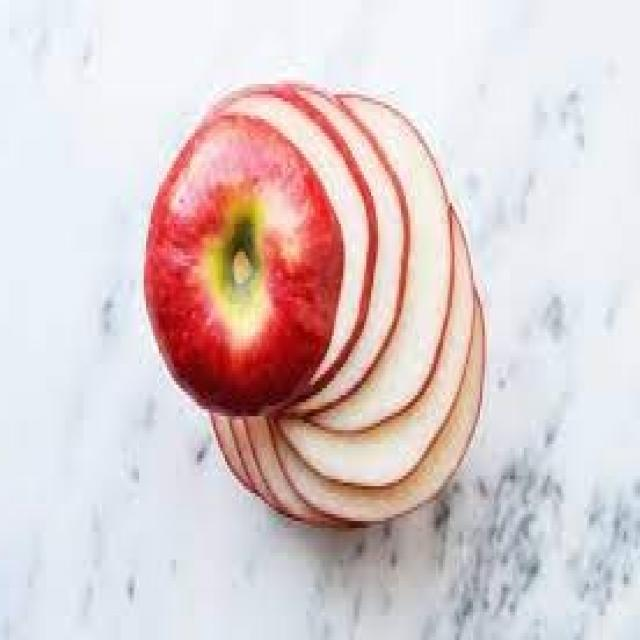Apple: (234, 199, 492, 542), (137, 116, 329, 417)
